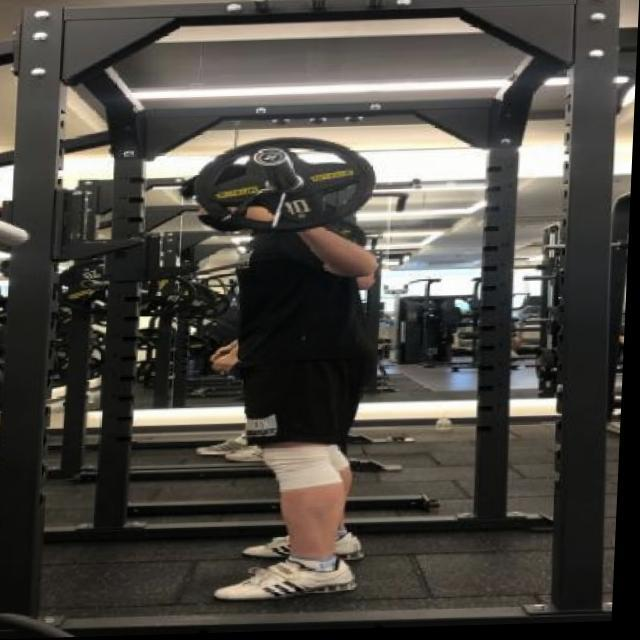barbell: (193, 129, 384, 242)
